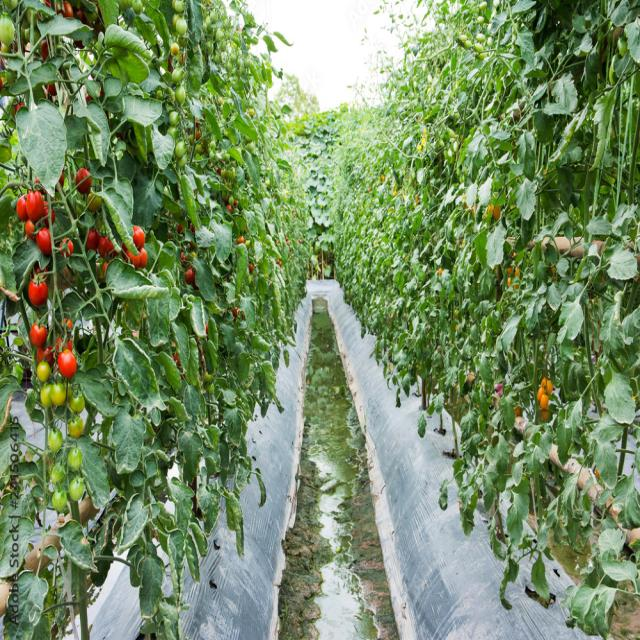kirmizi: (20, 192, 77, 349)
